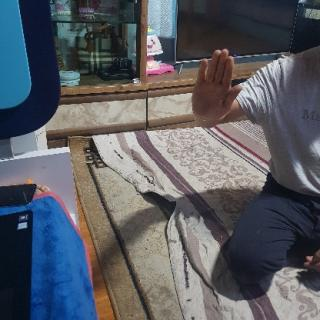SEEN: (188, 46, 245, 126)
